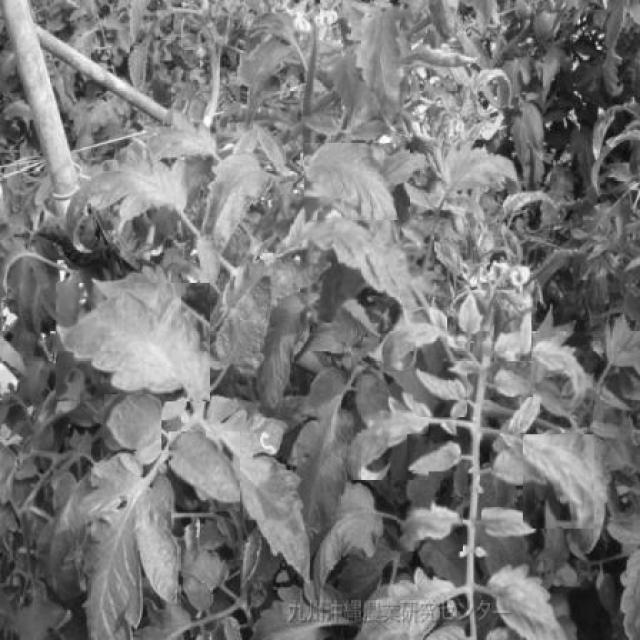Healthy: (56, 283, 211, 401), (169, 431, 241, 512), (105, 395, 162, 451)
Yellow Leaf Curl Virus: (300, 220, 434, 324), (305, 143, 411, 238), (348, 4, 412, 135), (347, 386, 429, 480), (523, 434, 594, 529), (492, 561, 577, 640), (536, 331, 593, 412), (442, 140, 522, 194), (382, 307, 448, 372), (398, 497, 463, 552), (413, 362, 468, 418), (492, 446, 552, 486), (482, 508, 545, 542), (408, 435, 462, 472), (456, 290, 494, 340), (494, 312, 532, 362), (488, 363, 533, 397)
